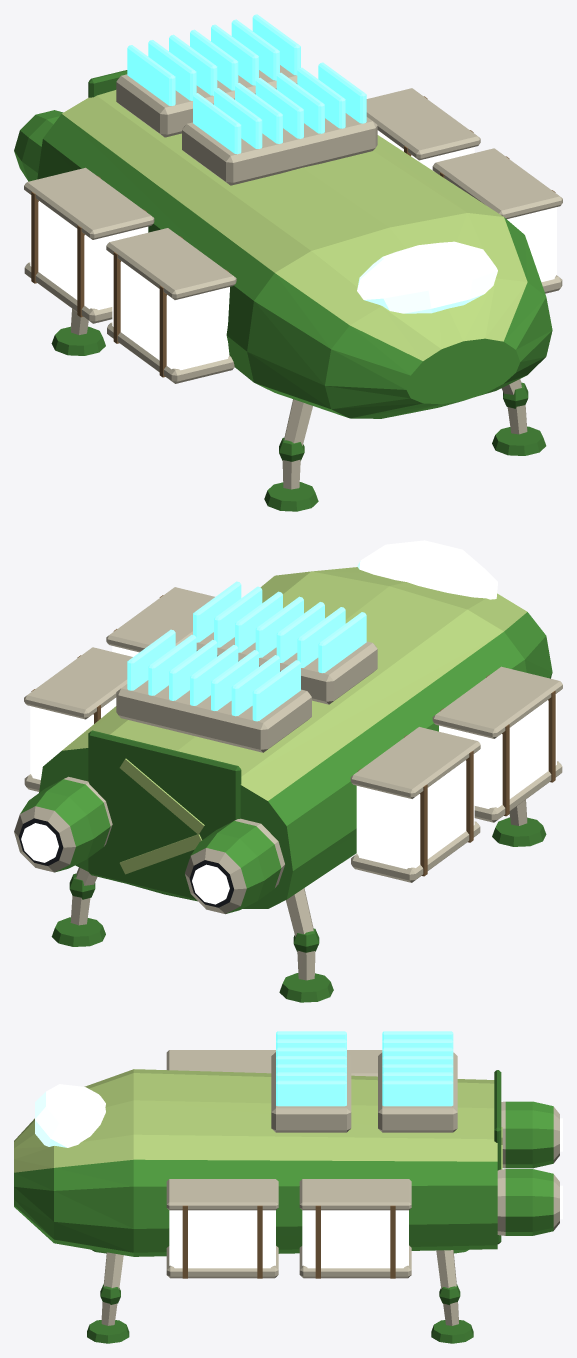
Rendered from ver-f_gelandet.glb.
3 views of the same model, one above another, from view 1: azimuth 30°, elevation 25°; view 2: azimuth 150°, elevation 25°; view 3: azimuth 270°, elevation 25° (orthographic). The views are drawn at different scales.
Visible parts, largest first — view 1: rumpf, kühlmodule, pflanzenbehälter_3, pflanzenbehälter_4, cockpit, pflanzenbehälter_1, pflanzenbehälter_2, landebein_2, landebein_1, triebwerk_r, landebein_4, spanngurt_3 (+1 smaller); view 2: rumpf, kühlmodule, rampe, pflanzenbehälter_4, pflanzenbehälter_3, pflanzenbehälter_2, triebwerk_r, triebwerk_l, cockpit, pflanzenbehälter_1, landebein_4, landebein_3 (+3 smaller); view 3: rumpf, kühlmodule, pflanzenbehälter_2, pflanzenbehälter_1, triebwerk_l, triebwerk_r, cockpit, pflanzenbehälter_3, landebein_3, landebein_1, spanngurt_1, spanngurt_2 (+2 smaller).
Boxes of the visible parts, x1=… form: rumpf: x1=37, y1=90, x2=552, y2=418; kühlmodule: x1=116, y1=14, x2=377, y2=185; pflanzenbehälter_3: x1=106, y1=228, x2=236, y2=383; pflanzenbehälter_4: x1=24, y1=167, x2=154, y2=323; cockpit: x1=357, y1=241, x2=497, y2=313; pflanzenbehälter_1: x1=432, y1=148, x2=562, y2=293; pflanzenbehälter_2: x1=366, y1=88, x2=480, y2=170; landebein_2: x1=264, y1=399, x2=318, y2=511; landebein_1: x1=492, y1=379, x2=546, y2=455; triebwerk_r: x1=14, y1=110, x2=63, y2=181; landebein_4: x1=51, y1=308, x2=105, y2=355; spanngurt_3: x1=113, y1=236, x2=229, y2=377; rumpf: x1=39, y1=567, x2=552, y2=908; kühlmodule: x1=116, y1=581, x2=377, y2=752; rampe: x1=88, y1=730, x2=241, y2=900; pflanzenbehälter_4: x1=350, y1=727, x2=480, y2=882; pflanzenbehälter_3: x1=432, y1=666, x2=562, y2=822; pflanzenbehälter_2: x1=24, y1=647, x2=132, y2=791; triebwerk_r: x1=185, y1=818, x2=284, y2=914; triebwerk_l: x1=14, y1=776, x2=112, y2=872; cockpit: x1=357, y1=540, x2=497, y2=599; pflanzenbehälter_1: x1=106, y1=587, x2=214, y2=656; landebein_4: x1=279, y1=888, x2=333, y2=1002; landebein_3: x1=51, y1=867, x2=105, y2=946; rumpf: x1=14, y1=1069, x2=497, y2=1256; kühlmodule: x1=271, y1=1031, x2=457, y2=1132; pflanzenbehälter_2: x1=299, y1=1179, x2=411, y2=1278; pflanzenbehälter_1: x1=166, y1=1179, x2=278, y2=1278; triebwerk_l: x1=497, y1=1169, x2=562, y2=1235; triebwerk_r: x1=501, y1=1101, x2=562, y2=1168; cockpit: x1=35, y1=1084, x2=105, y2=1147; pflanzenbehälter_3: x1=166, y1=1050, x2=275, y2=1073; landebein_3: x1=431, y1=1250, x2=473, y2=1343; landebein_1: x1=87, y1=1252, x2=129, y2=1343; spanngurt_1: x1=182, y1=1205, x2=262, y2=1278; spanngurt_2: x1=315, y1=1205, x2=395, y2=1278.
Size of the model in its own units: 0.1035 by 0.0724 by 0.1546.
